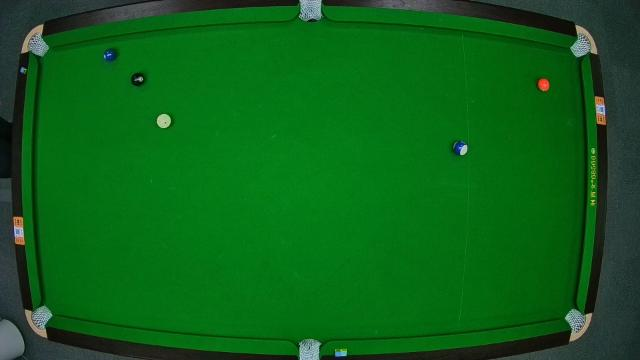bag1: (28, 35, 44, 55)
bag2: (300, 0, 322, 22)
bag3: (574, 36, 592, 58)
bag4: (31, 306, 53, 328)
bag5: (298, 340, 320, 360)
bag6: (566, 310, 586, 332)
ball0: (156, 115, 172, 130)
ball10: (452, 140, 468, 156)
ball2: (103, 47, 117, 63)
ball5: (538, 78, 550, 92)
ball8: (131, 72, 145, 86)
